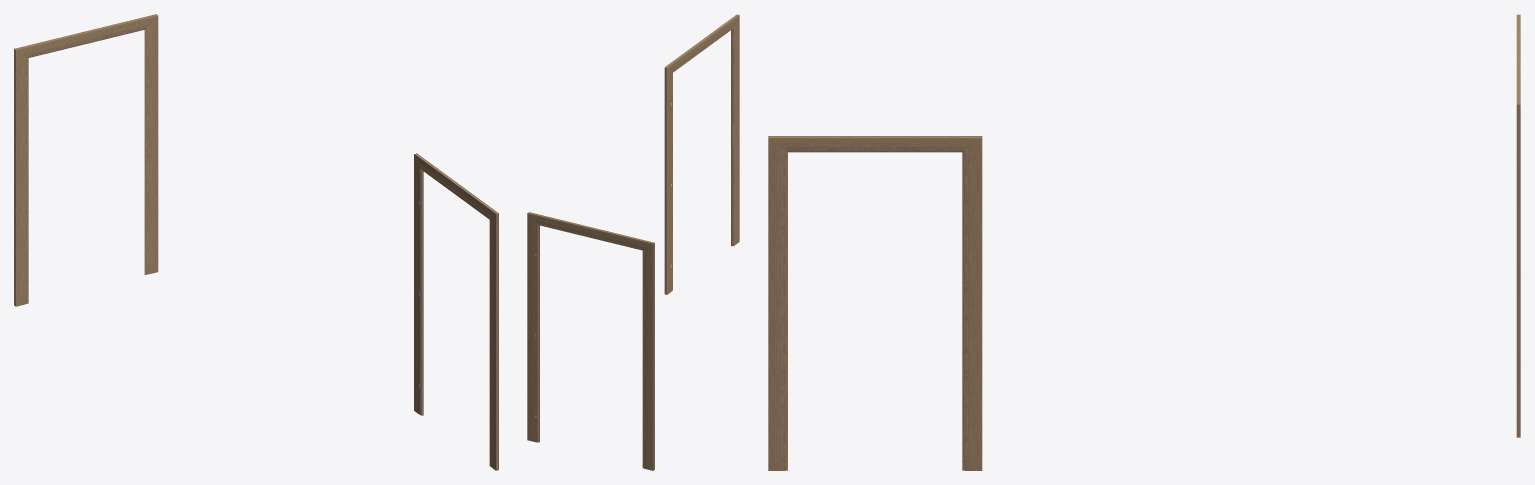
File: MOD_ART_ThreeRooms.fbx_Doors.fbx
3 views of the same model, side by side, from view 1: azimuth 30°, elevation 25°; view 2: azimuth 150°, elevation 25°; view 3: azimuth 270°, elevation 25° (orthographic). The views are drawn at different scales.
Parts seen in each view (by area): view 1: door MF frame, door MF frame.001; view 2: door MF frame, door MF frame.001; view 3: door MF frame.001, door MF frame.
Boxes of the visible parts, left/top/right/bottom form: door MF frame: left=14, top=14, right=158, bottom=306; door MF frame.001: left=414, top=153, right=498, bottom=470; door MF frame: left=527, top=212, right=654, bottom=470; door MF frame.001: left=664, top=14, right=739, bottom=294; door MF frame.001: left=768, top=136, right=982, bottom=470; door MF frame: left=1516, top=14, right=1520, bottom=437.
Bounding box in the file's own units: 239 × 301 × 615.
4 materials, 2 textured.
